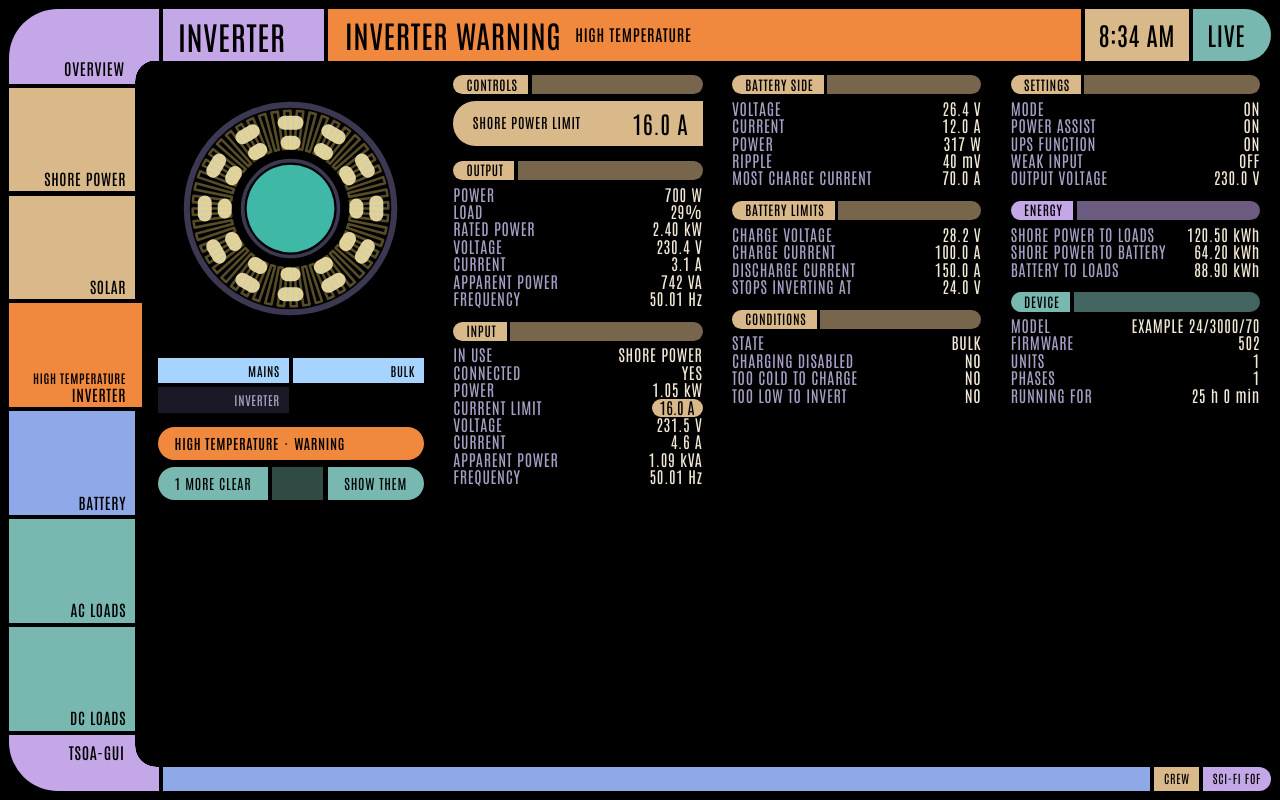
it: the input limit screen in Sci-Fi FOF › lets an operator only lower the limit until an admin sets the breaker size
Click the button "Shore power limit 16.0 A": (578,123) left=453, top=101, right=703, bottom=146
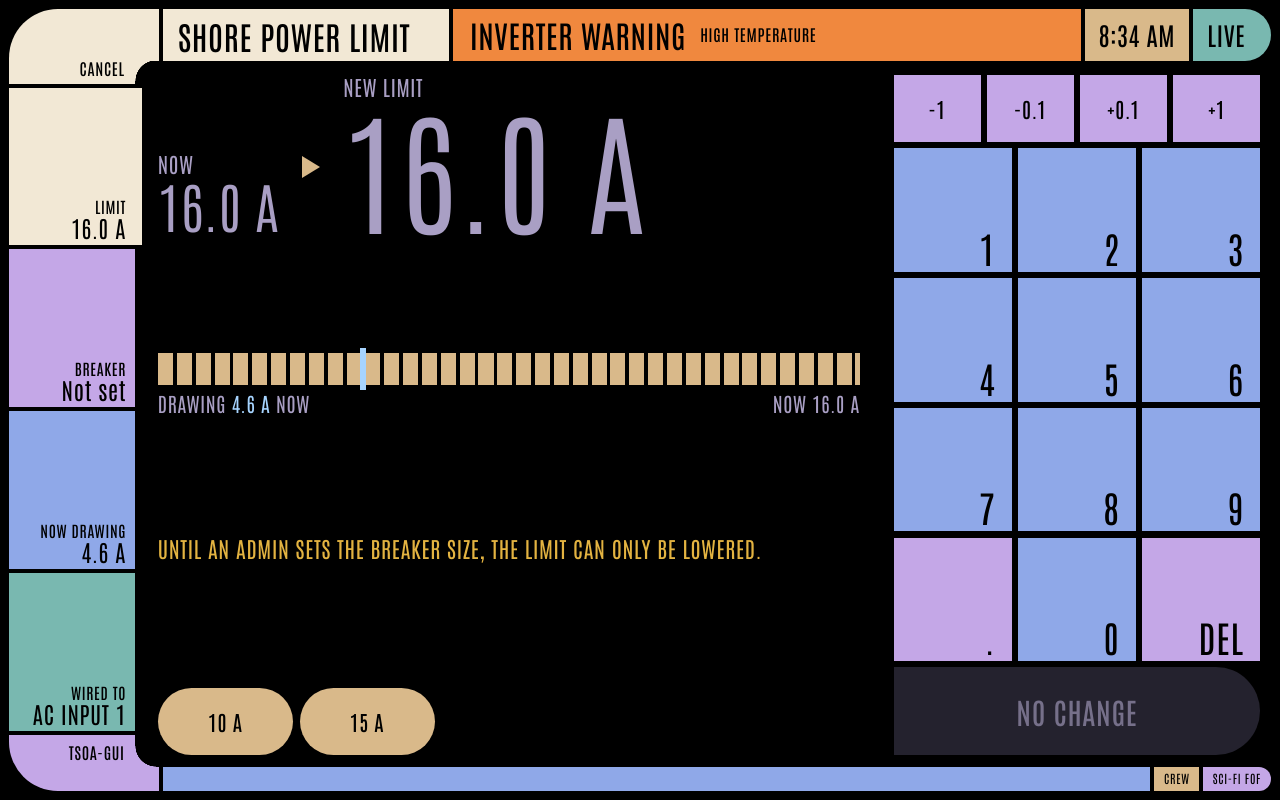
Expected: the message "Until an admin sets the breaker size, the limit can only be lowered." is shown, left=158, top=535, right=860, bottom=568
Expected: the text "Breaker" shows "Not set", left=62, top=374, right=126, bottom=404
